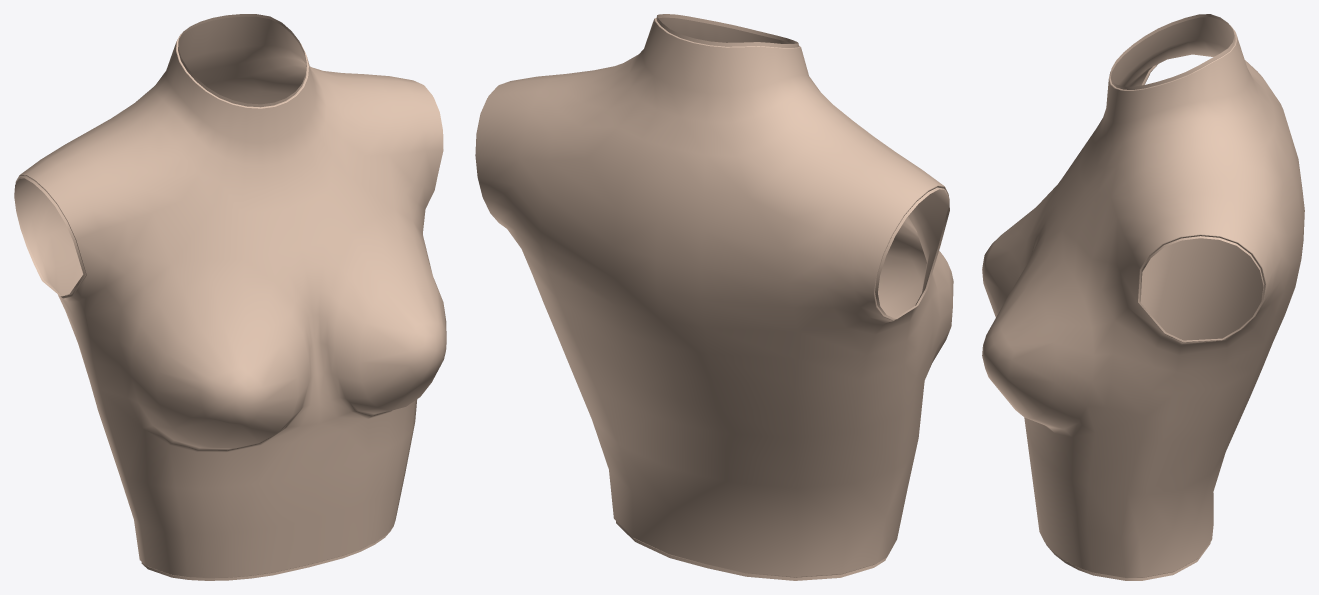
The model's file is MannequinFemaleChest.fbx.
3 renders of one model, left to right at view 1: azimuth 30°, elevation 25°; view 2: azimuth 150°, elevation 25°; view 3: azimuth 270°, elevation 25°, orthographic. The views are drawn at different scales.
Visible parts, largest first — view 1: MannequinChestFemale; view 2: MannequinChestFemale; view 3: MannequinChestFemale.
Boxes of the visible parts, x1,y1,x2,y2 form: MannequinChestFemale: (14,14,446,580); MannequinChestFemale: (475,14,953,580); MannequinChestFemale: (982,14,1304,580).
Bounding box in the file's own units: 0.3819 × 0.4534 × 0.2698.
